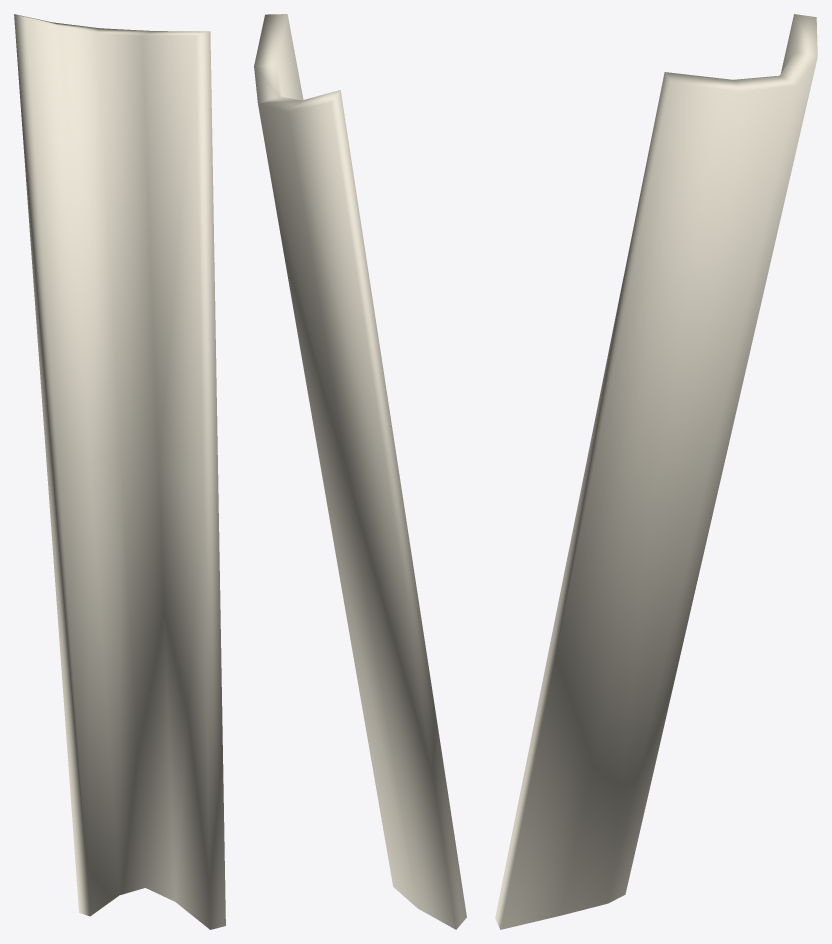
The picture shows the model from 3 angles, left to right: view 1: azimuth 30°, elevation 25°; view 2: azimuth 150°, elevation 25°; view 3: azimuth 270°, elevation 25°; orthographic projection. The views are drawn at different scales.
Visible parts, largest first — view 1: ZA_df28cc46673a5ce0; view 2: ZA_df28cc46673a5ce0; view 3: ZA_df28cc46673a5ce0.
Part boxes in pixels (x1,y1,x2,y2): ZA_df28cc46673a5ce0: [14, 14, 225, 929]; ZA_df28cc46673a5ce0: [254, 14, 466, 929]; ZA_df28cc46673a5ce0: [495, 14, 817, 929].
Size of the model in its own units: 0.00413 by 0.0212 by 0.00697.
